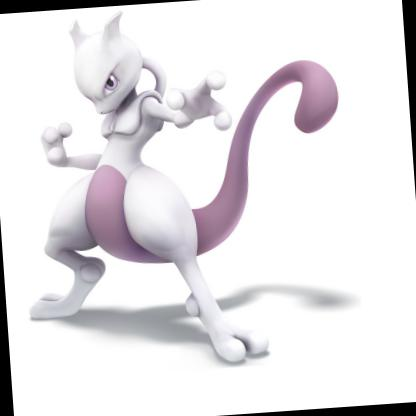Mewtwo: (1, 1, 371, 416)
